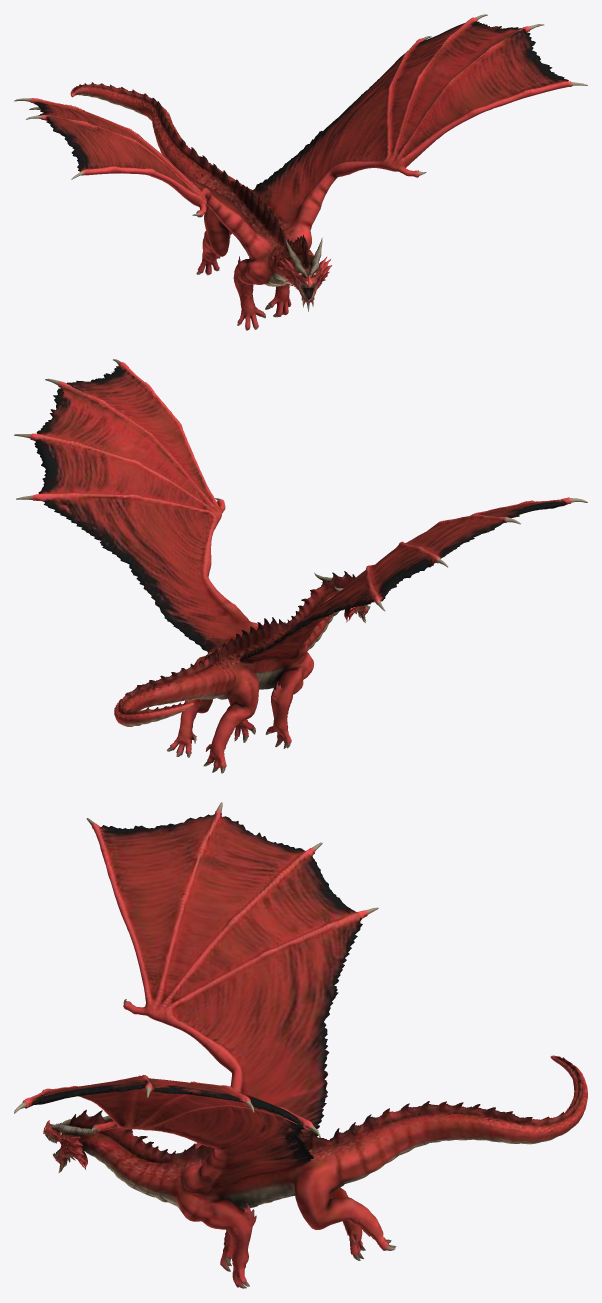
Rendered from MZ4250 - Dragon Red Greatwyrm.glb.
The picture shows the model from 3 angles, top to bottom: view 1: azimuth 30°, elevation 25°; view 2: azimuth 150°, elevation 25°; view 3: azimuth 270°, elevation 25°; orthographic projection. The views are drawn at different scales.
Visible parts, largest first — view 1: Red Greatwyrm.001; view 2: Red Greatwyrm.001; view 3: Red Greatwyrm.001.
Part boxes in pixels (x1,y1,x2,y2): Red Greatwyrm.001: (14,14,587,330); Red Greatwyrm.001: (14,359,587,773); Red Greatwyrm.001: (14,802,587,1288).
Bounding box in the file's own units: 9.69 × 5.05 × 7.9.
1 material, 1 textured.
